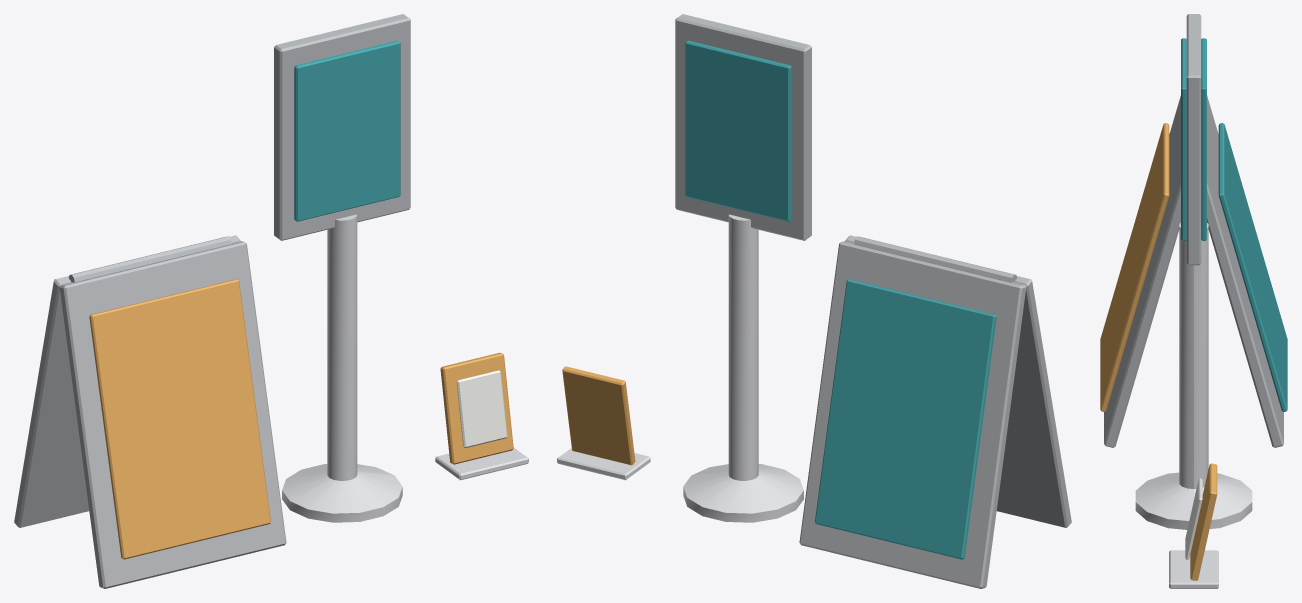
The model's file is pet-shop-and-grooming-salon-price-sign-set-fe0346b2__34580.glb.
The picture shows the model from 3 angles, left to right: view 1: azimuth 30°, elevation 25°; view 2: azimuth 150°, elevation 25°; view 3: azimuth 270°, elevation 25°; orthographic projection.
Parts seen in each view (by area): view 1: price-sign-set; view 2: price-sign-set; view 3: price-sign-set.
Boxes of the visible parts, left/top/right/bottom form: price-sign-set: left=14, top=14, right=528, bottom=588; price-sign-set: left=557, top=14, right=1071, bottom=588; price-sign-set: left=1100, top=14, right=1287, bottom=588.
Size of the model in its own units: 1.05 by 1.02 by 0.376.
